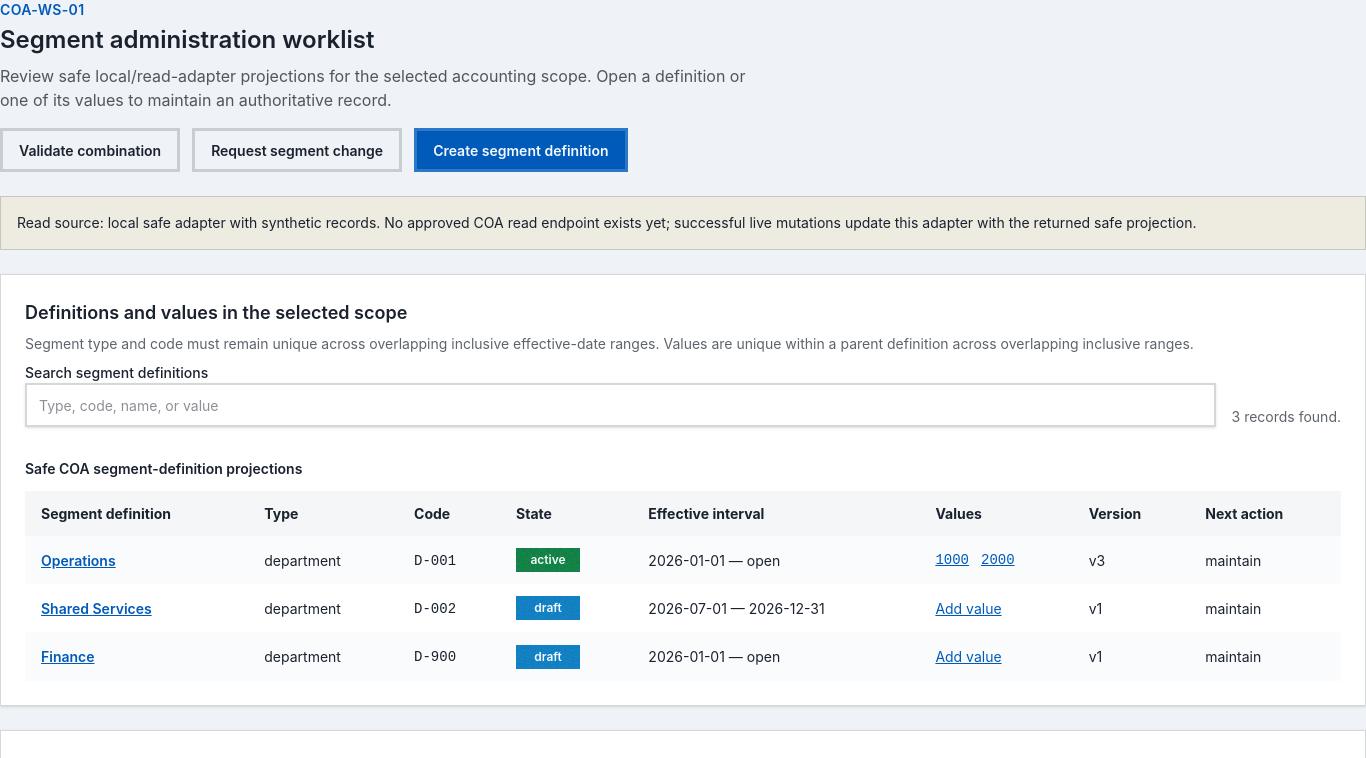
Test: COA segment workspace › filters the worklist by value and exposes a value record link
The image size is (1366, 758).
Type "1000" into the field labelled "Search segment definitions".
click(620, 405); type("1000")  # box x1=25 y1=383 x2=1216 y2=427
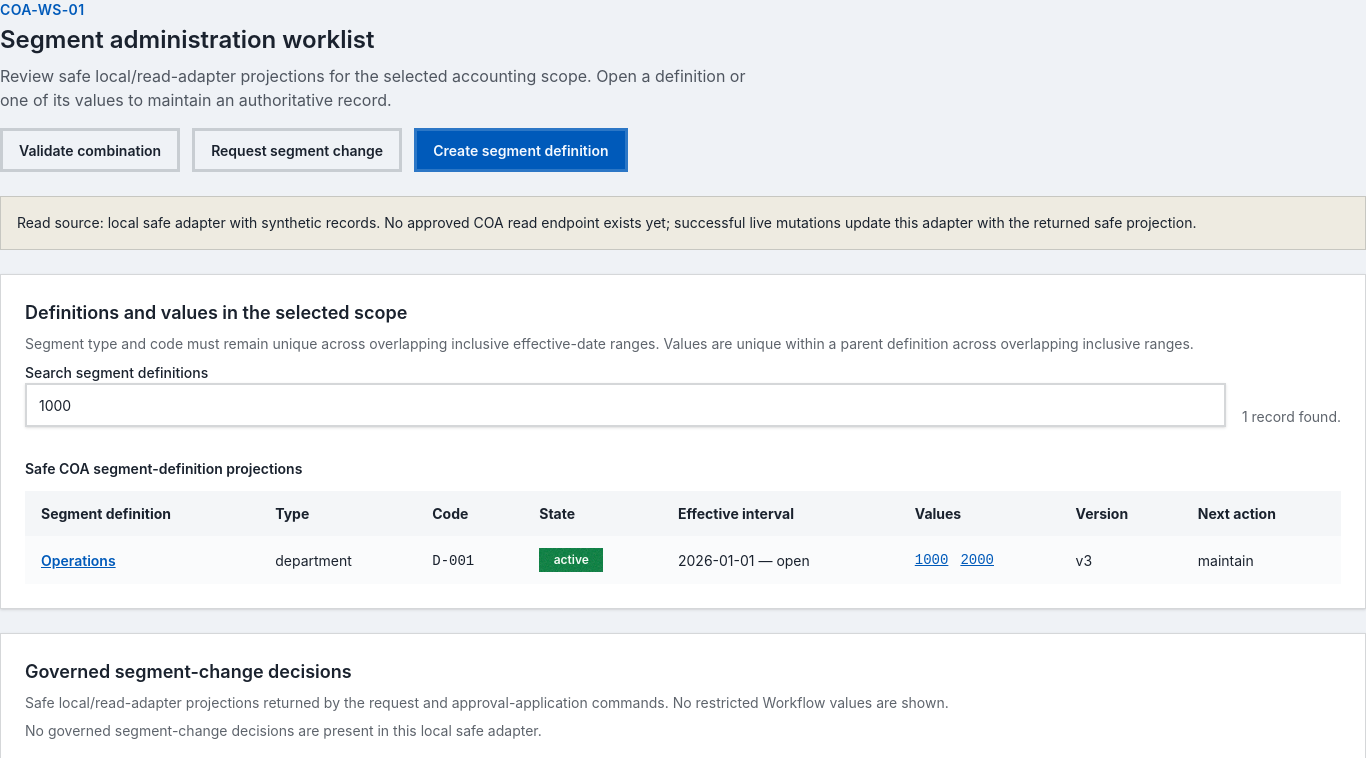
expect the link "Operations" is shown: met, box x1=41 y1=552 x2=116 y2=569
expect the text "1 record found." is shown: met, box x1=1242 y1=407 x2=1341 y2=427
